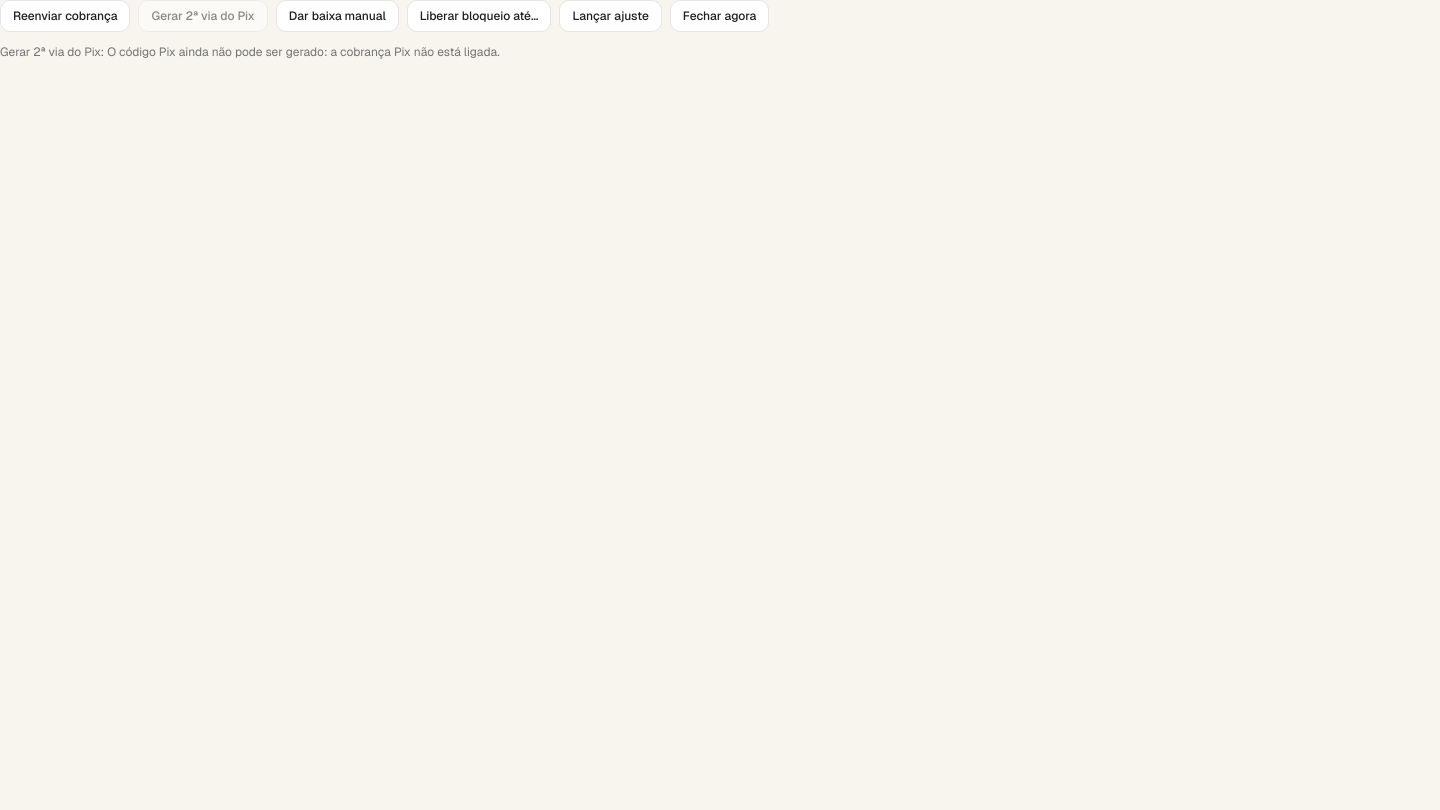
it: Ações da fatura › valor diferente do total: avisa e o botão mostra o valor novo
The width and height of the screenshot is (1440, 810).
Click the button "Dar baixa manual": (337, 16) 276,0 -> 399,32
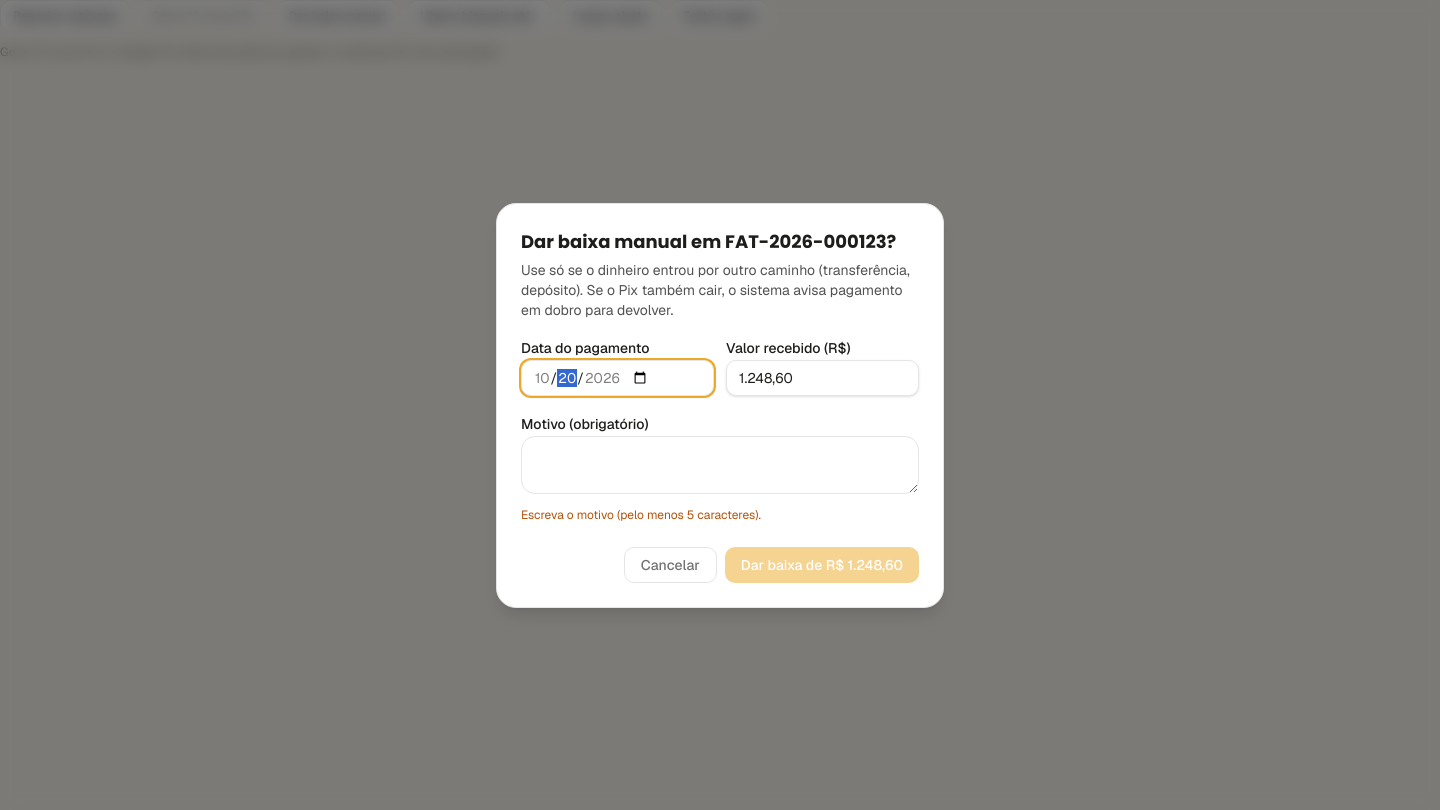
Replace the text in the field labelled "Valor recebido (R$)" with "1.000,00": (822, 378) 726,360 -> 919,396
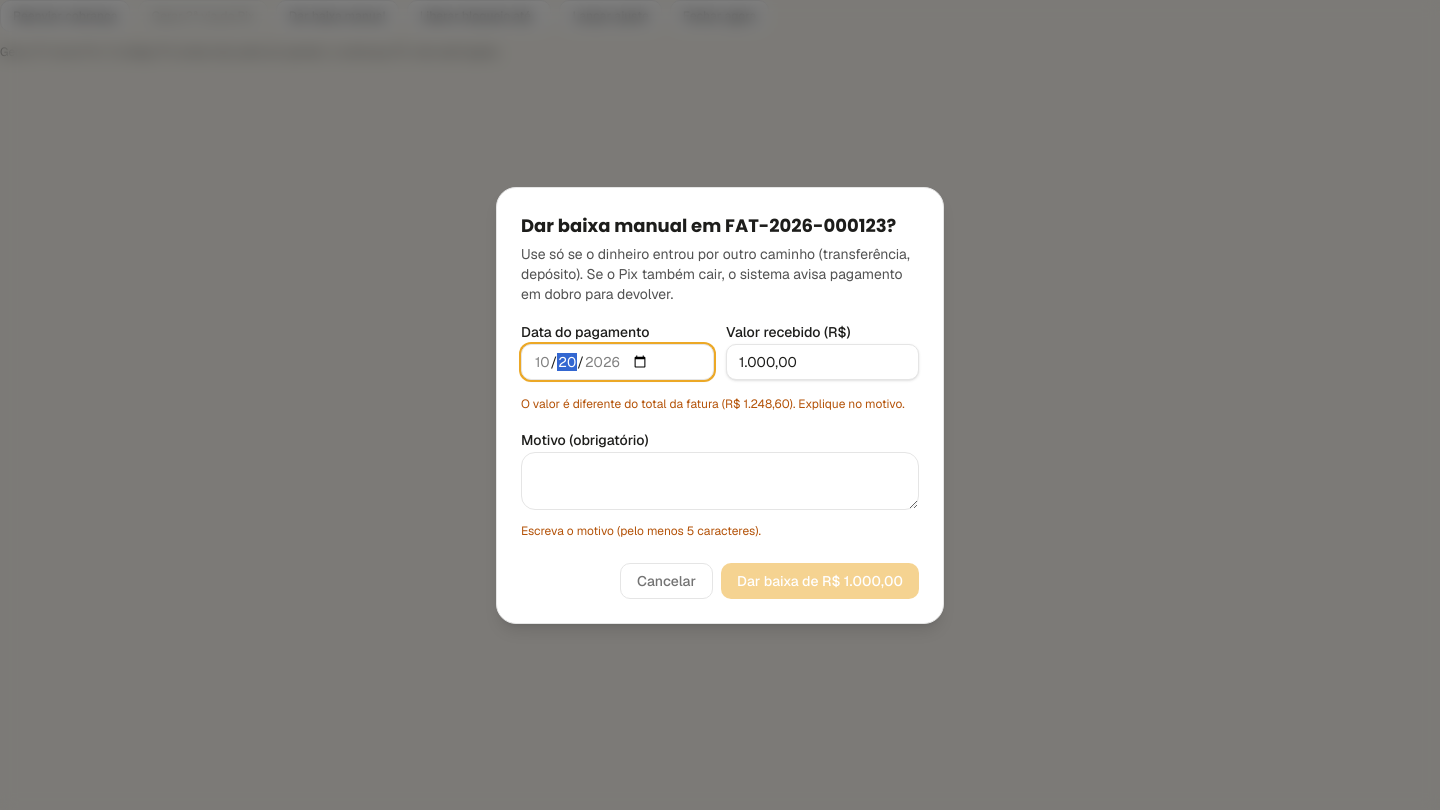
Expected: the text "O valor é diferente do total da fatura (R$ 1.248,60). Explique no motivo." is shown, 521,396 -> 919,412
Expected: the button "Dar baixa de R$ 1.000,00" is shown, 721,562 -> 919,598
